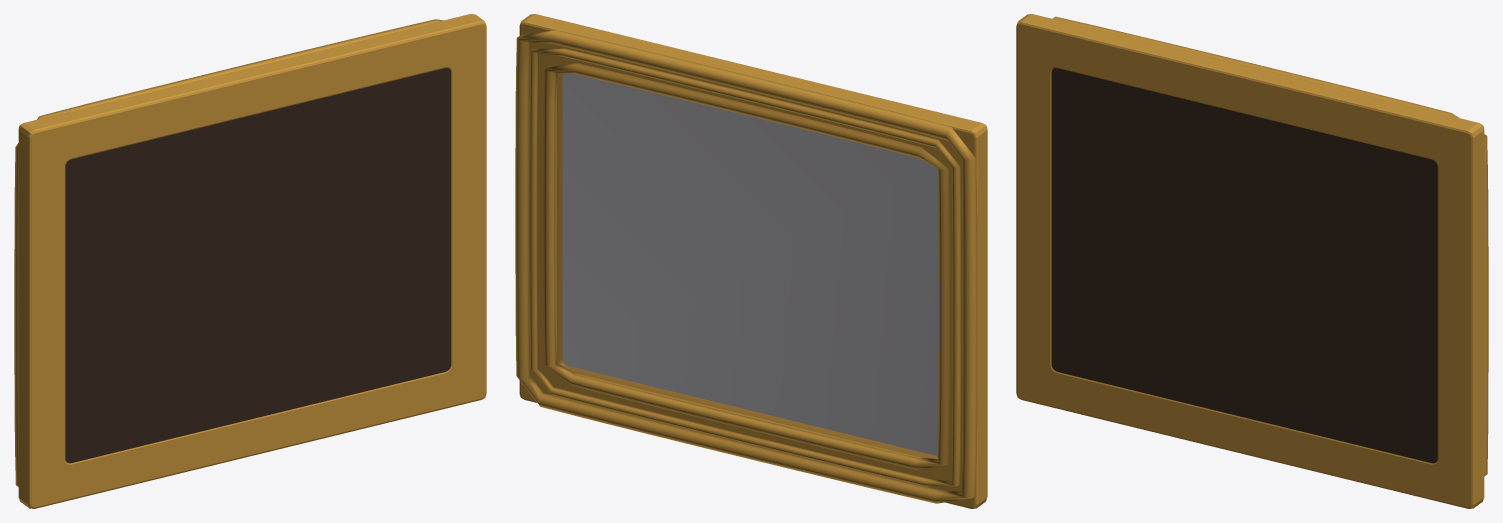
Rendered from frame_picture__100.glb.
3 views of the same model, side by side, from view 1: azimuth 30°, elevation 25°; view 2: azimuth 150°, elevation 25°; view 3: azimuth 330°, elevation 25° (orthographic).
Parts seen in each view (by area): view 1: prop_frame_picture, merged_toon_C8963C; view 2: prop_frame_picture, merged_toon_C8963C; view 3: prop_frame_picture, merged_toon_C8963C.
Part boxes in pixels (box(x1,y1,x2,y2)): prop_frame_picture: box(65, 68, 451, 463); merged_toon_C8963C: box(14, 14, 486, 508); prop_frame_picture: box(562, 73, 938, 455); merged_toon_C8963C: box(515, 14, 987, 508); prop_frame_picture: box(1051, 68, 1437, 463); merged_toon_C8963C: box(1016, 14, 1488, 508).
Size of the model in its own units: 0.987 by 0.7812 by 0.063.
